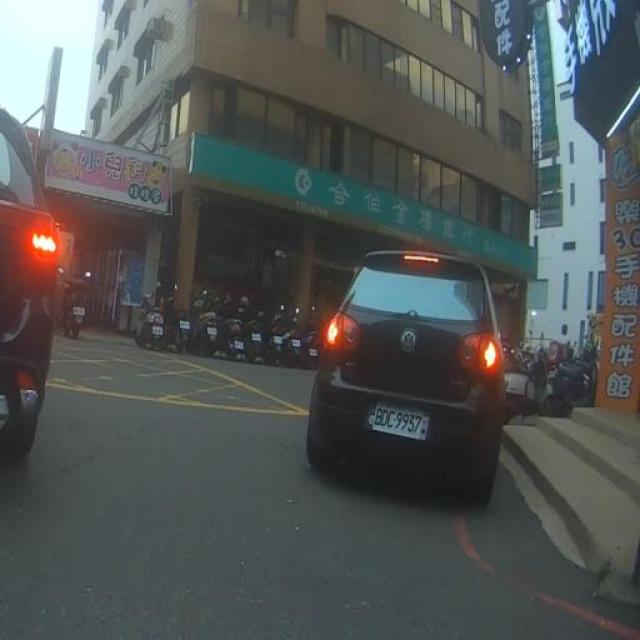illegalparking: (294, 235, 544, 524)
